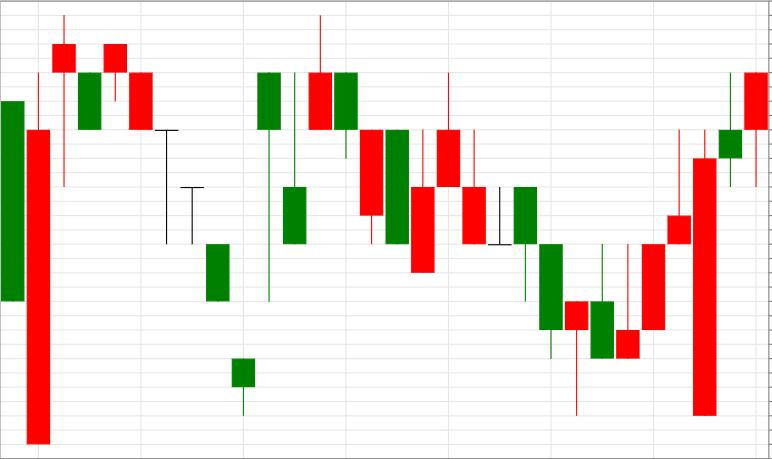hammer_rise: (489, 187, 589, 416)
shooting_star_fall: (616, 72, 742, 416)
